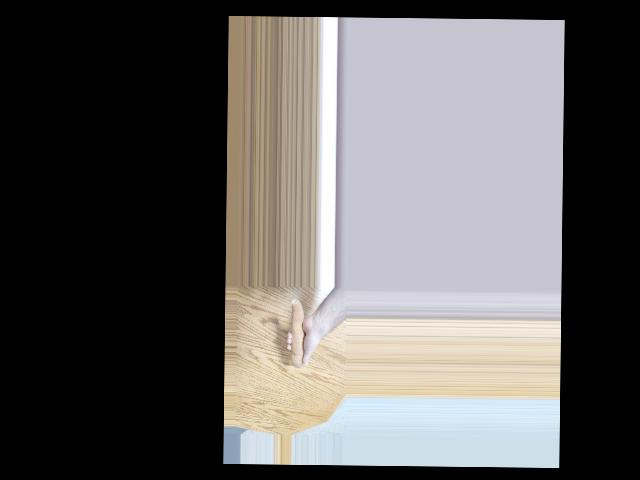sweet_potato: (290, 298, 311, 369)
